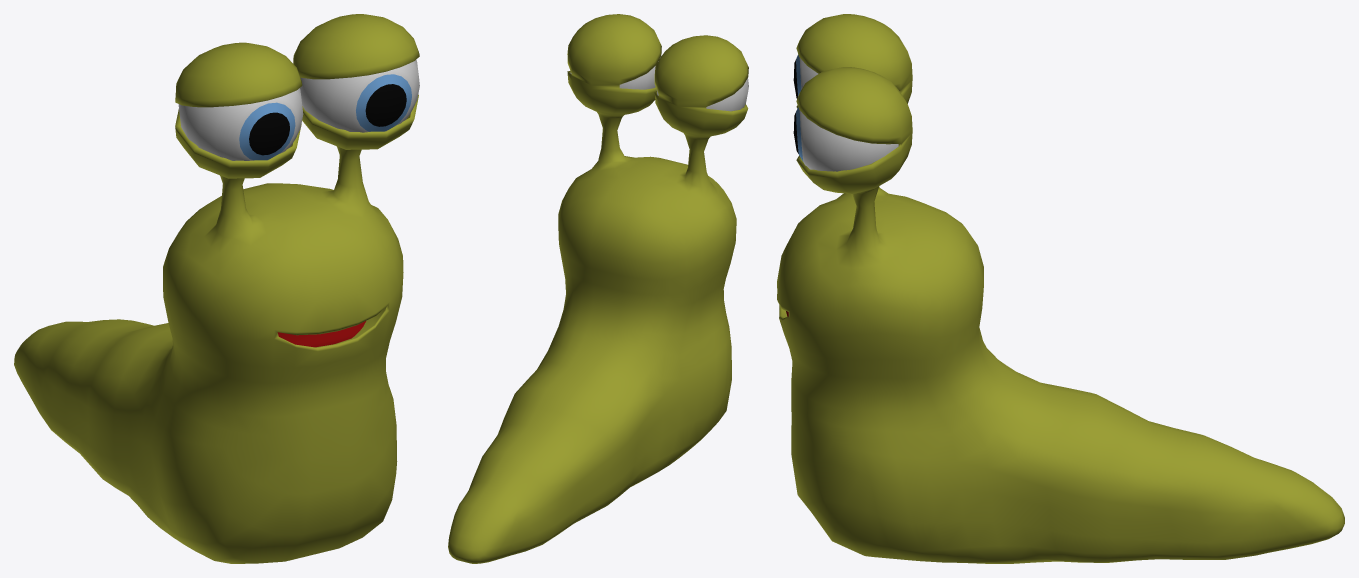
The model's file is cartoon_slug.dae764E7B64-4FA7-4C99-A42B-E93AA83F8C28.dae.
The picture shows the model from 3 angles, left to right: view 1: azimuth 30°, elevation 25°; view 2: azimuth 150°, elevation 25°; view 3: azimuth 270°, elevation 25°; orthographic projection. The views are drawn at different scales.
Parts seen in each view (by area): view 1: slug, slug_eyes, slug_tongue; view 2: slug, slug_eyes; view 3: slug, slug_eyes.
Part boxes in pixels (x1,y1,x2,y2): slug: [14, 14, 419, 563]; slug_eyes: [178, 60, 419, 160]; slug_tongue: [277, 321, 365, 347]; slug: [448, 14, 748, 563]; slug_eyes: [570, 56, 748, 111]; slug: [777, 14, 1344, 563]; slug_eyes: [793, 54, 898, 171].
Size of the model in its own units: 0.2246 by 0.5204 by 0.5005.
